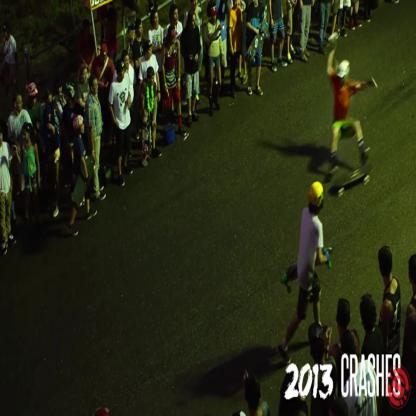Fall_Down: (326, 33, 380, 177)
